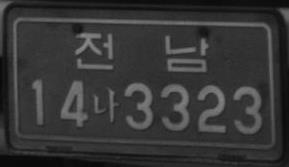1: (26, 77, 52, 126)
2: (196, 83, 227, 134)
3: (231, 84, 262, 136), (123, 80, 154, 131), (160, 82, 190, 132)
4: (59, 79, 89, 128)
나: (92, 85, 119, 123)
전남_D: (72, 31, 209, 73)
